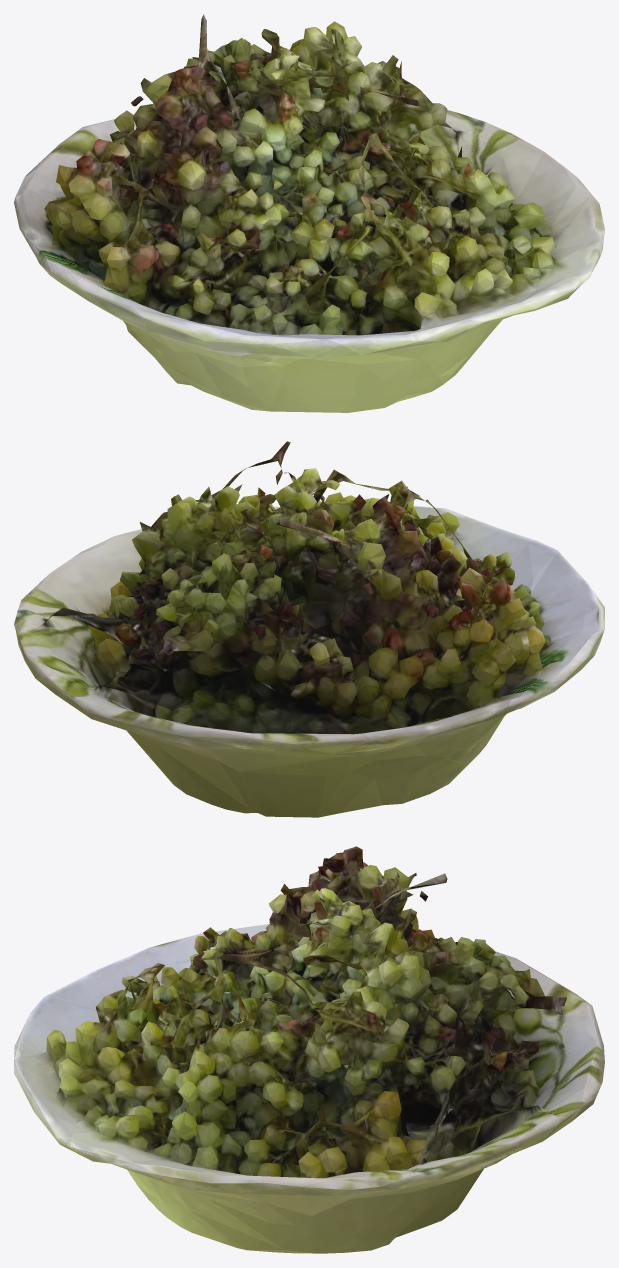
The model's file is realgrapes.glb.
3 renders of one model, top to bottom at view 1: azimuth 30°, elevation 25°; view 2: azimuth 150°, elevation 25°; view 3: azimuth 270°, elevation 25°, orthographic.
Visible parts, largest first — view 1: Object_4; view 2: Object_4; view 3: Object_4.
Part boxes in pixels (<box>): Object_4: <box>14,14,604,412</box>; Object_4: <box>14,441,604,817</box>; Object_4: <box>14,846,604,1253</box>.
Size of the model in its own units: 0.1992 by 0.1101 by 0.2.
Materials: 1 (1 with a texture image).
